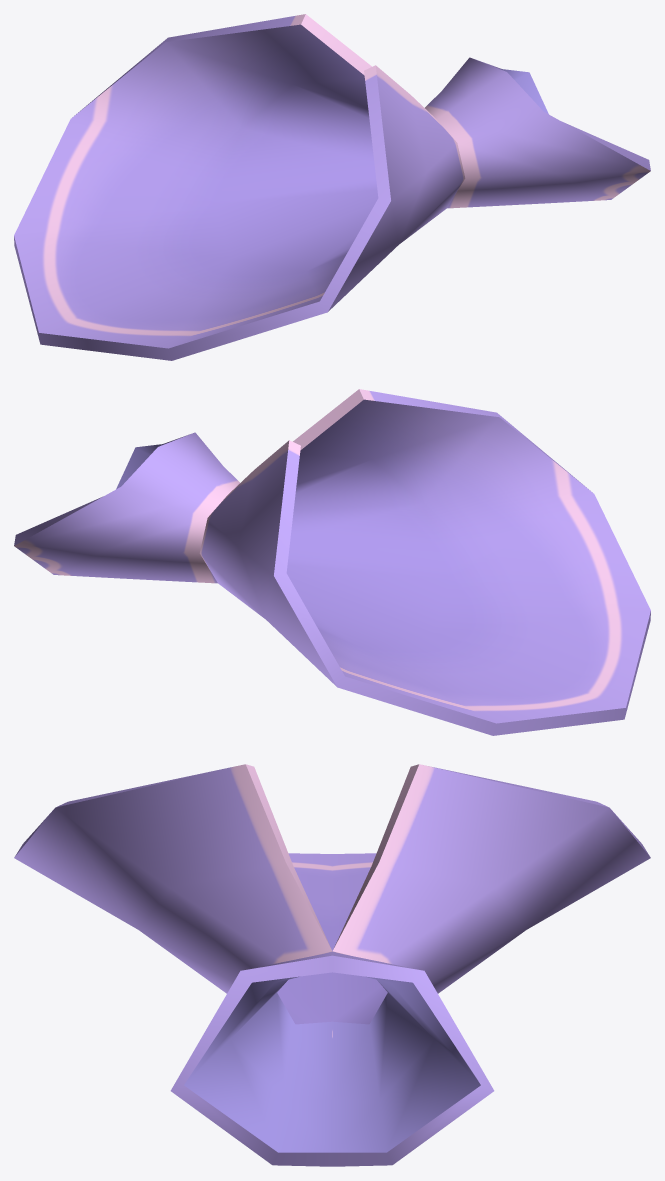
The model's file is PaperWrap_V01.fbx.
3 renders of one model, top to bottom at view 1: azimuth 30°, elevation 25°; view 2: azimuth 150°, elevation 25°; view 3: azimuth 270°, elevation 25°, orthographic. The views are drawn at different scales.
Parts seen in each view (by area): view 1: PaperWrap; view 2: PaperWrap; view 3: PaperWrap.
Boxes of the visible parts, <box> form: PaperWrap: <box>14,14,650,360</box>; PaperWrap: <box>14,389,650,735</box>; PaperWrap: <box>14,764,650,1166</box>.
Bounding box in the file's own units: 49.5 × 19.92 × 39.94.
1 material, 1 textured.
